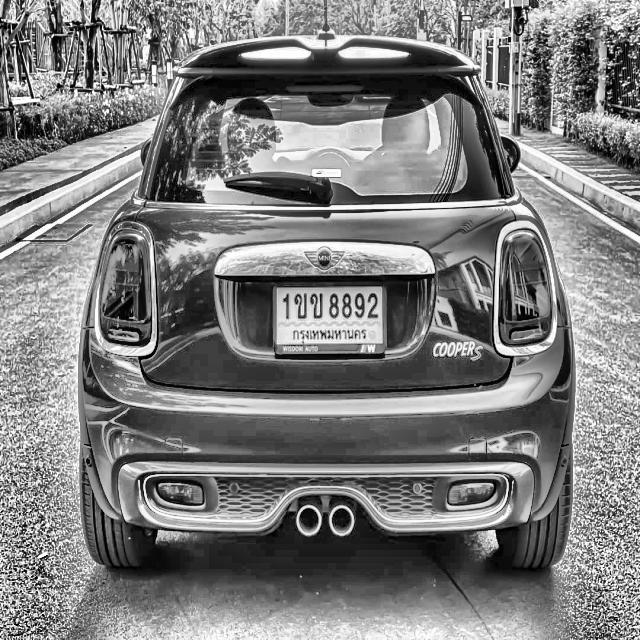license-plate: (273, 275, 387, 360)
